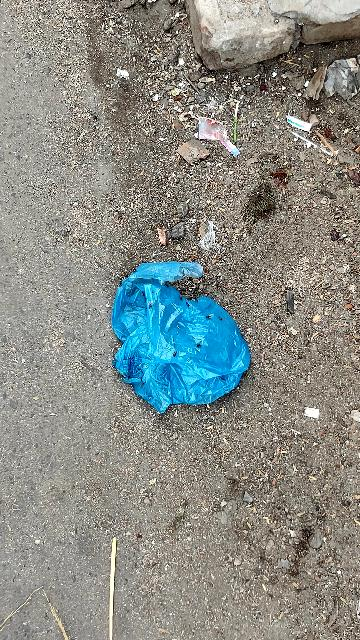polythene: (91, 232, 257, 429)
